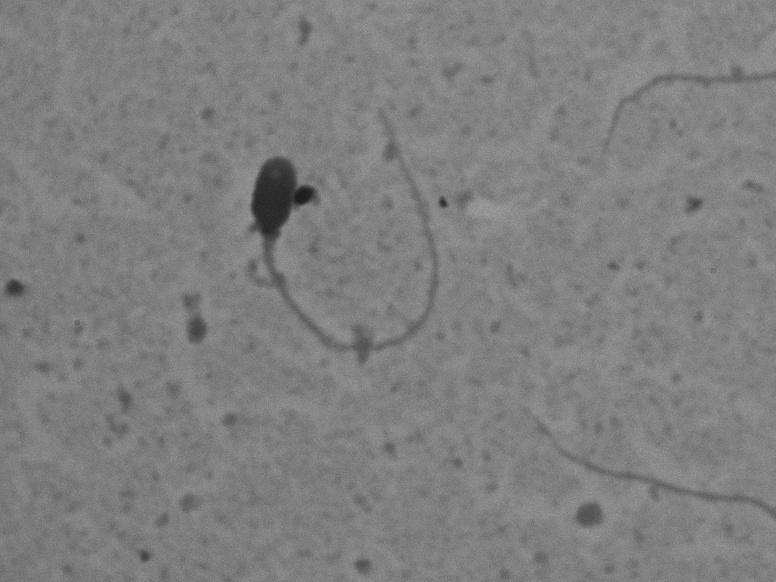Abnormal: (217, 103, 467, 367)
